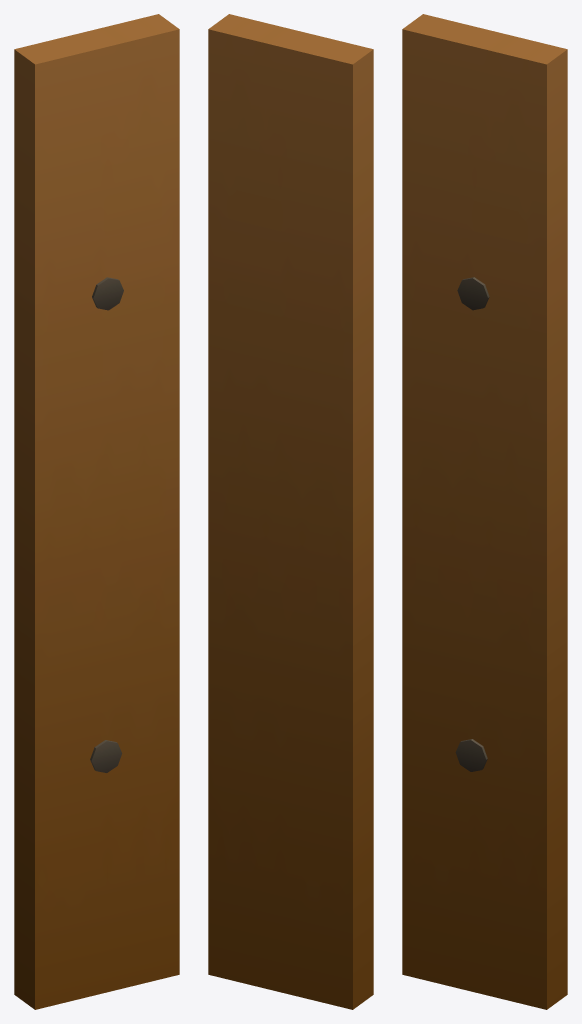
File: Fence_Bit_A.fbx
The picture shows the model from 3 angles, left to right: view 1: azimuth 30°, elevation 25°; view 2: azimuth 150°, elevation 25°; view 3: azimuth 330°, elevation 25°; orthographic projection.
Visible parts, largest first — view 1: Fence_Bit_A; view 2: Fence_Bit_A; view 3: Fence_Bit_A.
Part boxes in pixels (x1,y1,x2,y2): Fence_Bit_A: (14,14,179,1009); Fence_Bit_A: (208,14,373,1009); Fence_Bit_A: (402,14,567,1009).
Size of the model in its own units: 16 by 4.3 by 100.
1 material, 1 textured.
